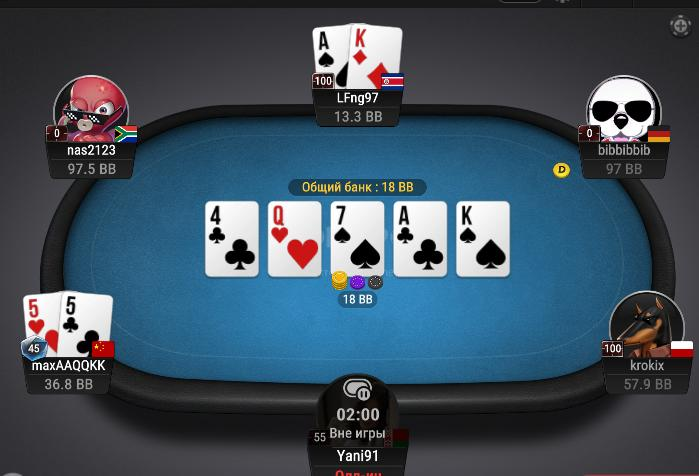4c: (205, 201, 258, 277)
5c: (61, 291, 112, 359)
5h: (23, 294, 60, 359)
7s: (331, 200, 384, 275)
Ac: (394, 202, 448, 275)
As: (311, 23, 349, 91)
Kd: (351, 23, 401, 87)
Ks: (456, 203, 511, 277)
Qh: (269, 202, 323, 277)
